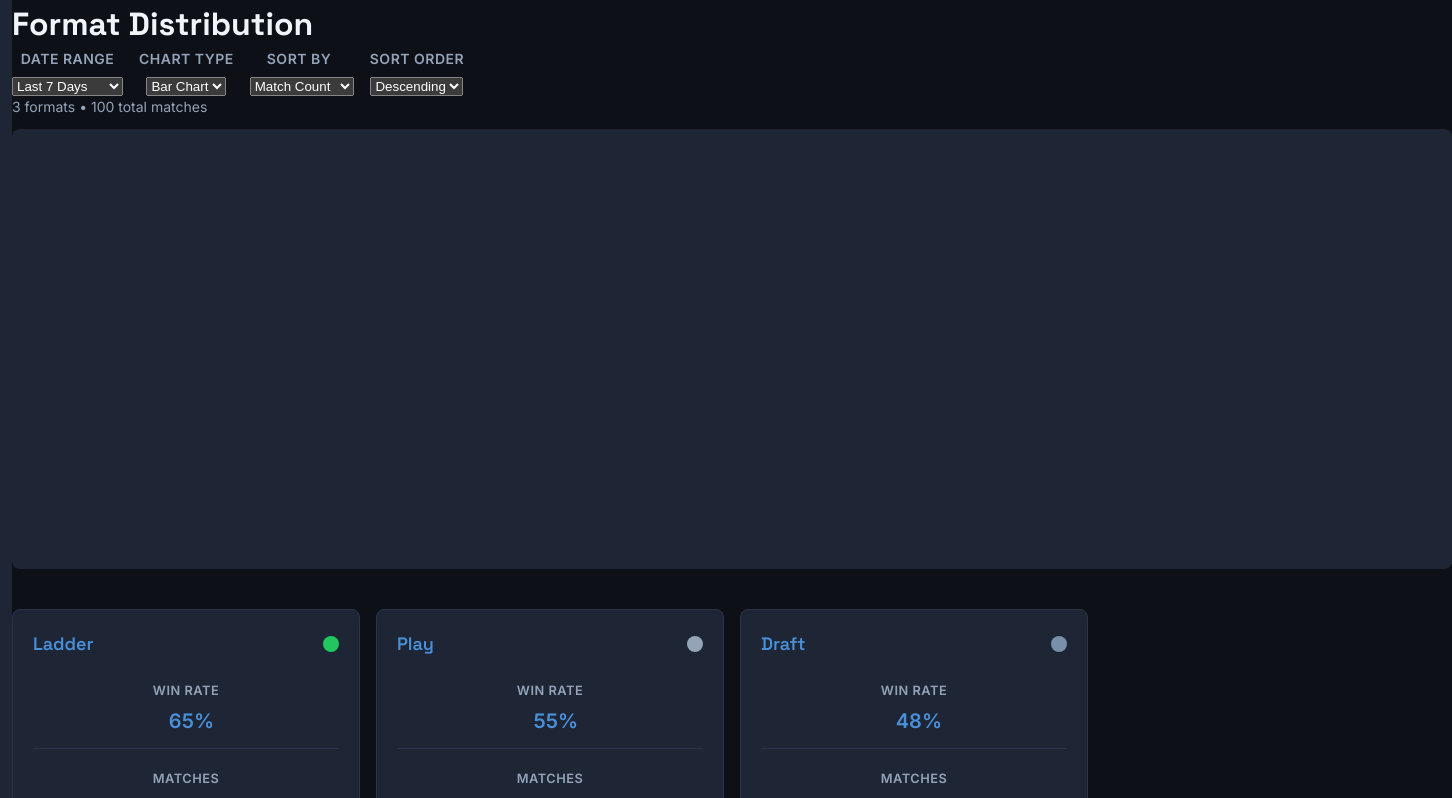
Scenario: FormatDistribution › Filters › should show custom date inputs when custom range selected
Expected: the heading "Ladder" is shown, [33,630,94,657]
Select "Custom Range" in the dropdown below "Date Range" at x=68, y=86, box [12,77,123,96]
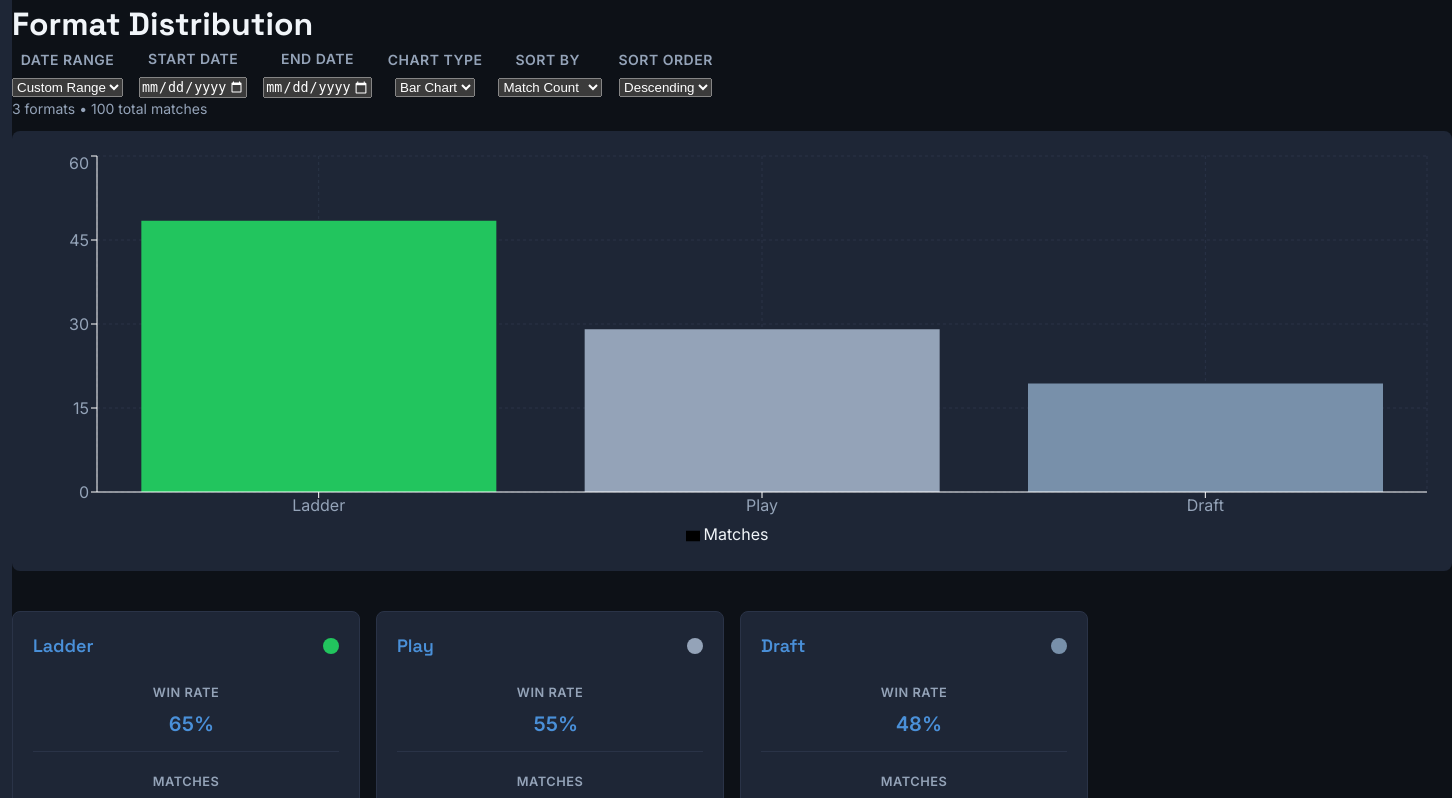
Now the date field below "Start Date" is shown, box [139,77,247,98]
Now the date field below "End Date" is shown, box [263,77,372,98]
